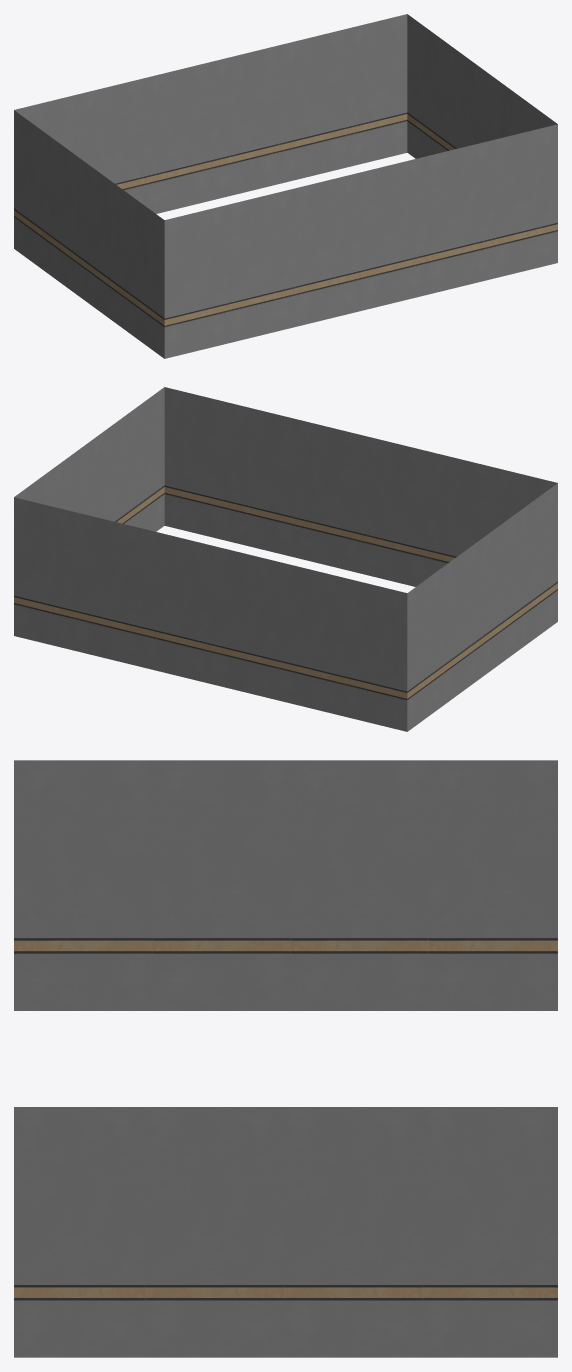
File: Puzzle_room_wall.fbx
The picture shows the model from 3 angles, top to bottom: view 1: azimuth 30°, elevation 25°; view 2: azimuth 150°, elevation 25°; view 3: azimuth 270°, elevation 25°; orthographic projection. The views are drawn at different scales.
Parts seen in each view (by area): view 1: Puzzle_room_wall; view 2: Puzzle_room_wall; view 3: Puzzle_room_wall.
Boxes of the visible parts, x1,y1,x2,y2 form: Puzzle_room_wall: [14, 14, 557, 358]; Puzzle_room_wall: [14, 387, 557, 731]; Puzzle_room_wall: [14, 760, 557, 1357].
Size of the model in its own units: 17.8 by 6 by 11.8.
Materials: 1 (1 with a texture image).
